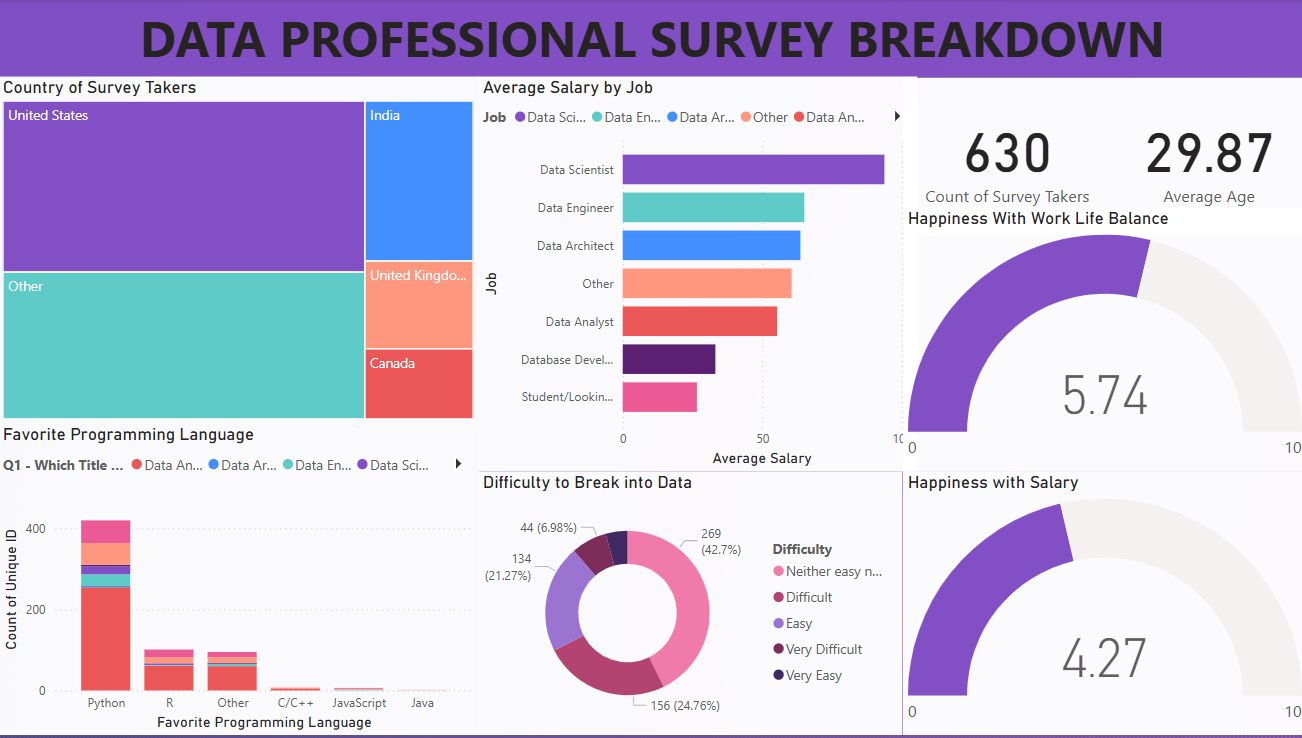

Layout of this report page (visuals, bound fields, positions):
{"tool":"powerbi","page":{"name":"Page 1","canvas":[1280,720],"ordinal":0},"visuals":[{"type":"textbox","box":[0,0,1280.3,76.1],"z":0},{"type":"card","fields":{"Values":["Count(Data Professional Survey.Unique ID)"]},"box":[884.9,77.6,204.4,153.7],"z":1},{"type":"card","fields":{"Values":["Avg(Data Professional Survey.Q10 - Current Age)"]},"box":[1089.3,77.6,191,153.7],"z":2},{"type":"barChart","title":"Average Salary by Job","fields":{"Category":["Data Professional Survey.Q1 - Which Title Best Fits your Current Role?.1"],"Y":["Avg(Data Professional Survey.Average Salary)"],"Series":["Data Professional Survey.Q1 - Which Title Best Fits your Current Role?.1"]},"box":[470,76.1,429.8,386.5],"z":3},{"type":"columnChart","title":"Favorite Programming Language","fields":{"Category":["Data Professional Survey.Q5 - Favorite Programming Language.1"],"Y":["Count(Data Professional Survey.Unique ID)"],"Series":["Data Professional Survey.Q1 - Which Title Best Fits your Current Role?.1"]},"box":[0,416.3,470,304.4],"z":4},{"type":"treemap","title":"Country of Survey Takers","fields":{"Group":["Data Professional Survey.Q11 - Which Country do you live in?.1"],"Values":["CountNonNull(Data Professional Survey.Q11 - Which Country do you live in?.1)"]},"box":[0,76.1,470,340.2],"z":5},{"type":"gauge","title":"Happiness With Work Life Balance","fields":{"Y":["Avg(Data Professional Survey.Q6 - How Happy are you in your Current Position with the following? (Work/Life Balance))"],"MinValue":["Min(Data Professional Survey.Q6 - How Happy are you in your Current Position with the following? (Work/Life Balance))1"],"MaxValue":["Max(Data Professional Survey.Q6 - How Happy are you in your Current Position with the following? (Work/Life Balance))2"]},"box":[884.9,204.4,395.4,258.1],"z":6},{"type":"gauge","title":"Happiness with Salary","fields":{"Y":["Avg(Data Professional Survey.Q6 - How Happy are you in your Current Position with the following? (Salary))"],"MinValue":["Min(Data Professional Survey.Q6 - How Happy are you in your Current Position with the following? (Salary))1"],"MaxValue":["Max(Data Professional Survey.Q6 - How Happy are you in your Current Position with the following? (Salary))2"]},"box":[884.9,462.6,395.4,258.1],"z":7},{"type":"donutChart","title":"Difficulty to Break into Data","fields":{"Category":["Data Professional Survey.Q7 - How difficult was it for you to break into Data?"],"Y":["CountNonNull(Data Professional Survey.Q7 - How difficult was it for you to break into Data?)"]},"box":[470,462.6,414.8,258.1],"z":8}]}

Visuals, with their boxes in screenshot pixels (x1, y1, x2, y2), scaled from the page's 1280x720 canvas onto the 1302x738 screenshot:
textbox: [0, 0, 1301, 78]
card - Count(Data Professional Survey.Unique ID): [900, 80, 1108, 237]
card - Avg(Data Professional Survey.Q10 - Current Age): [1108, 80, 1301, 237]
"Average Salary by Job" barChart: [478, 78, 915, 474]
"Favorite Programming Language" columnChart: [0, 427, 478, 737]
"Country of Survey Takers" treemap: [0, 78, 478, 427]
"Happiness With Work Life Balance" gauge: [900, 210, 1301, 474]
"Happiness with Salary" gauge: [900, 474, 1301, 737]
"Difficulty to Break into Data" donutChart: [478, 474, 900, 737]
